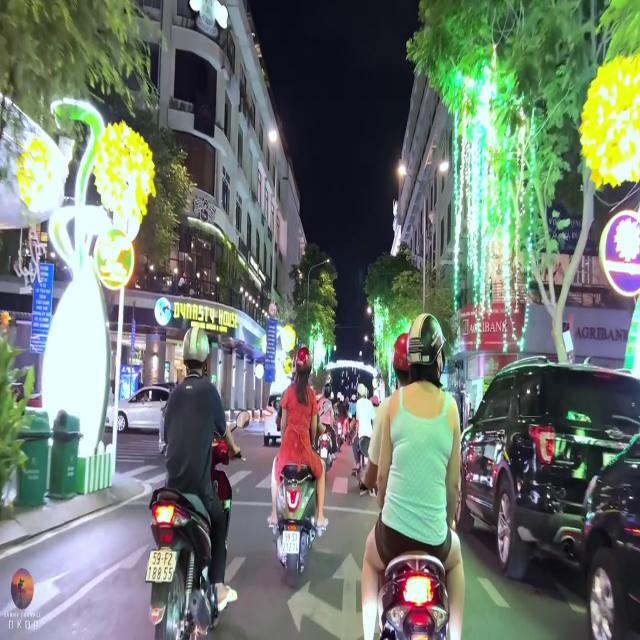bien_trang: (144, 545, 178, 587), (280, 527, 303, 558)
